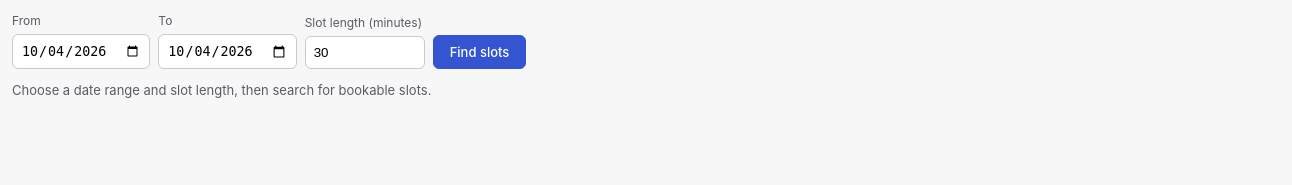
Test case: AvailableSlotsPicker › fetches nothing until a search is submitted, then shows only backend-returned slots
The width and height of the screenshot is (1292, 185).
Expected: the text "Choose a date range and slot length" is shown, x1=12 y1=82 x2=431 y2=98
Type "2026-03-02" into the date field named "From date" at (81, 52), box x1=12 y1=34 x2=150 y2=69
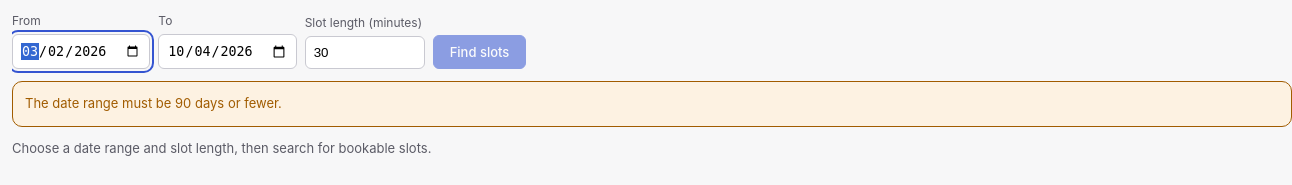
Type "2026-03-02" into the date field named "To date" at (227, 52), box x1=158 y1=34 x2=297 y2=69
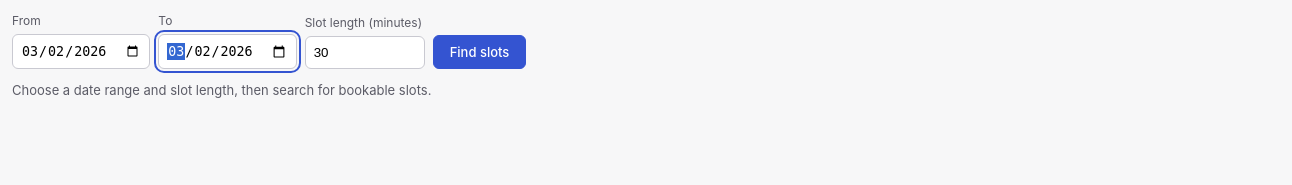
Click the button "Find slots" at (480, 52), box x1=433 y1=35 x2=526 y2=69
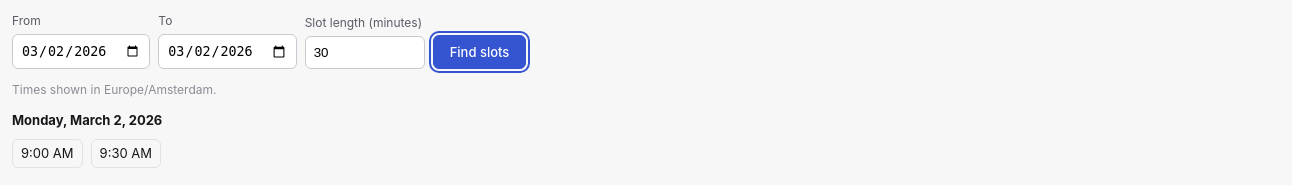
Expected: the text "9:00 AM" is shown, x1=12 y1=139 x2=83 y2=168
Expected: the text "Times shown in Europe/Amsterdam." is shown, x1=12 y1=82 x2=216 y2=97
